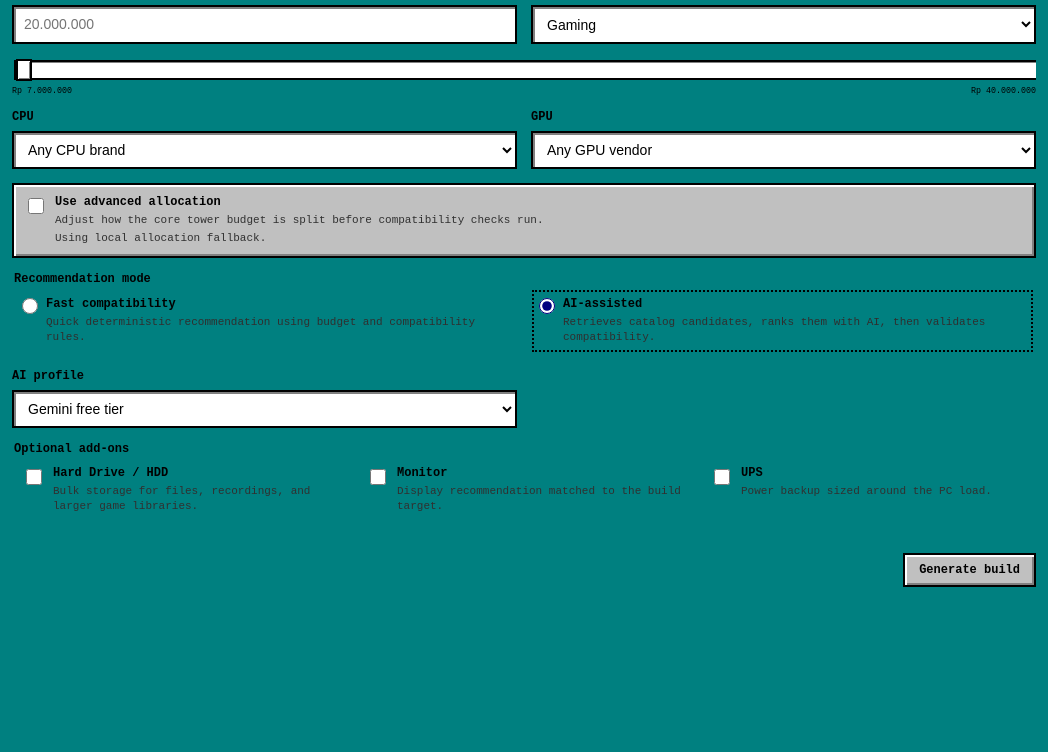
Test: build wizard › blocks advanced allocation submission until percentages total 100
Type "30000000" into the field labelled "Budget (IDR)" at (264, 24), box [12,5,517,44]
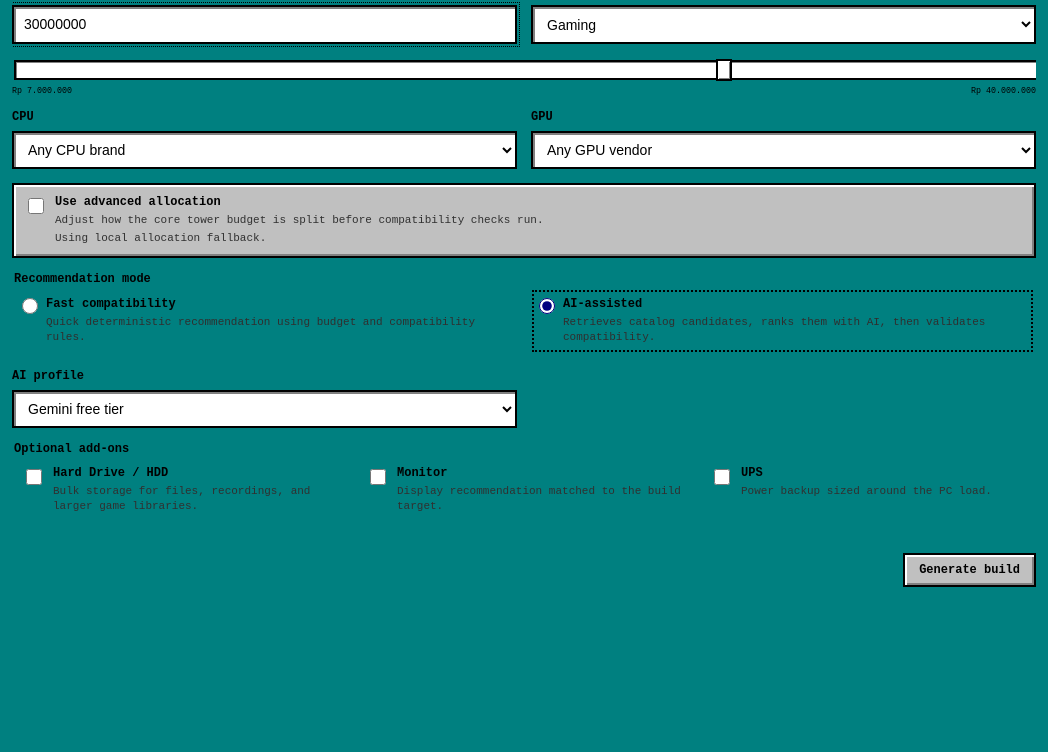
Click the radio button labelled "Fast compatibility" at (30, 306), box [22,298,38,314]
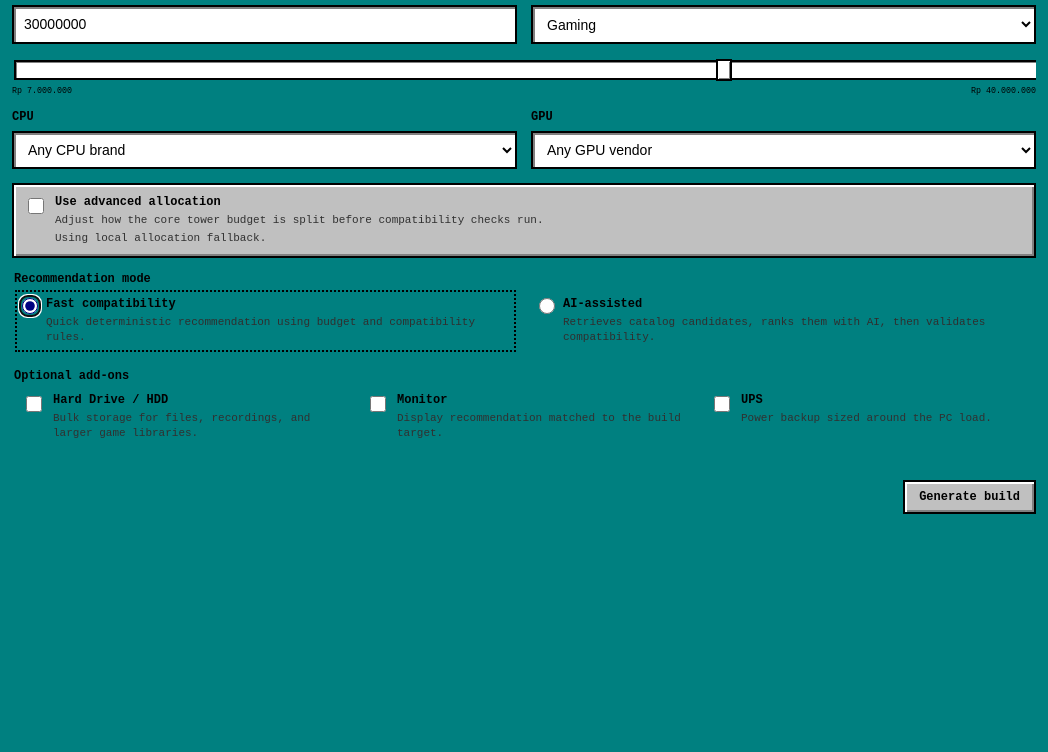
Click the checkbox labelled "Use advanced allocation" at (36, 206), box [28,198,44,214]
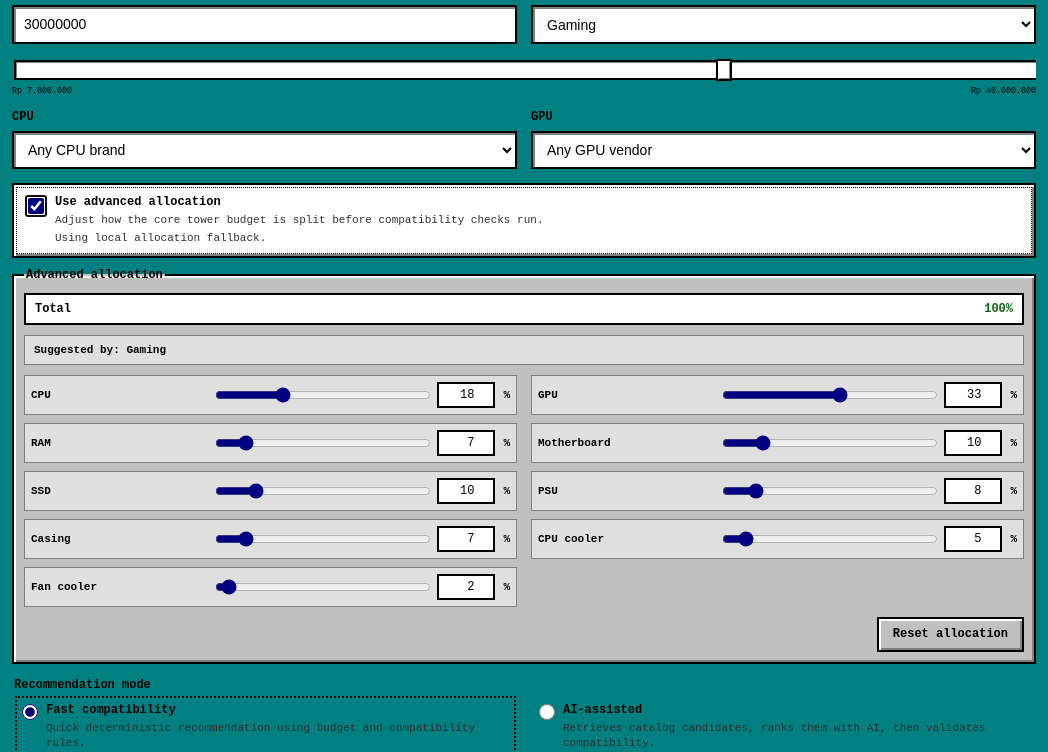
Replace the text in the number field named "CPU allocation percent" with "21" at (466, 395), box [437,382,495,408]
(page scrolled)
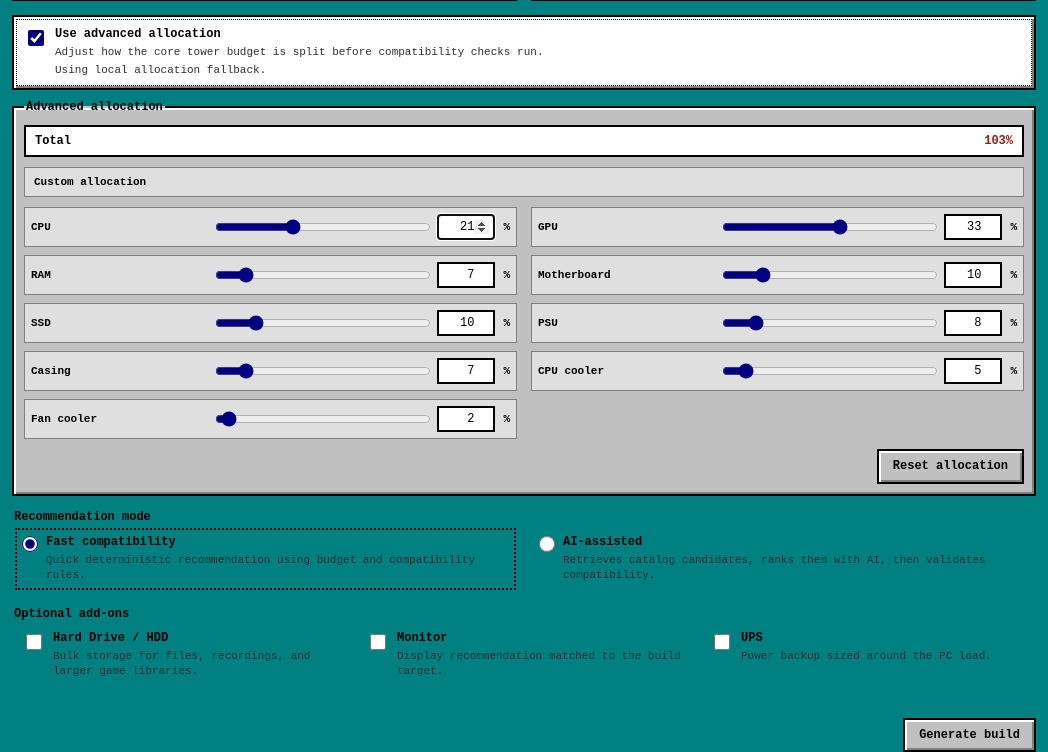
Click the button "Generate build" at (970, 735), box [903,718,1036,751]
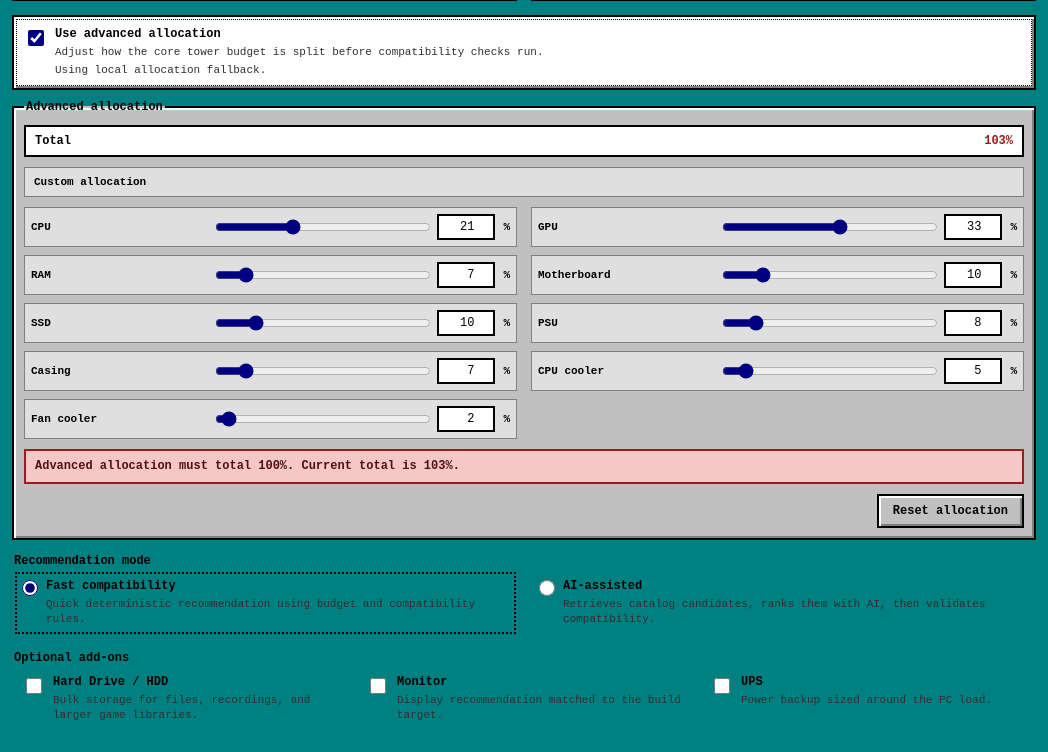
Expected: the message reads "Advanced allocation must total 100%. Current total is 103%.", [35,459,460,473]
